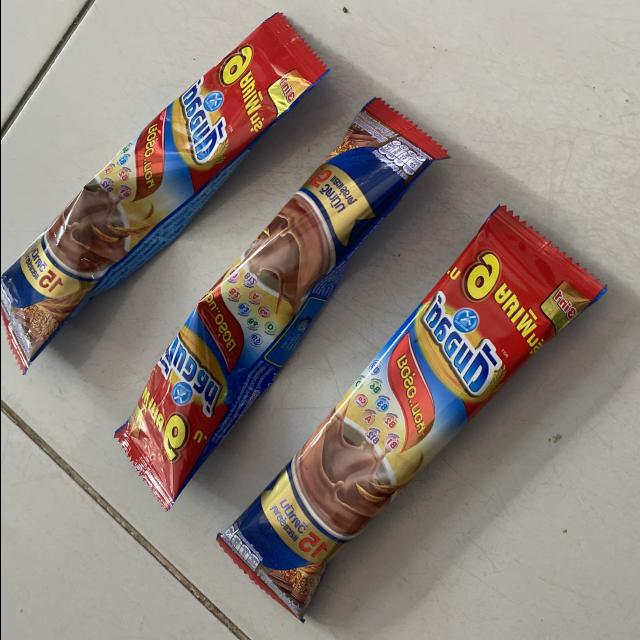plastik: (217, 207, 601, 619), (115, 99, 446, 510), (0, 13, 326, 373)
